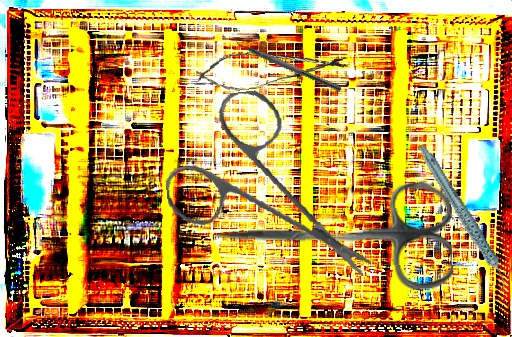Chopper: (228, 31, 345, 93)
Handpiece: (417, 133, 509, 304)
Iris Scissors: (155, 78, 373, 299), (215, 179, 453, 295)
Micro Scissor: (192, 41, 352, 96)
